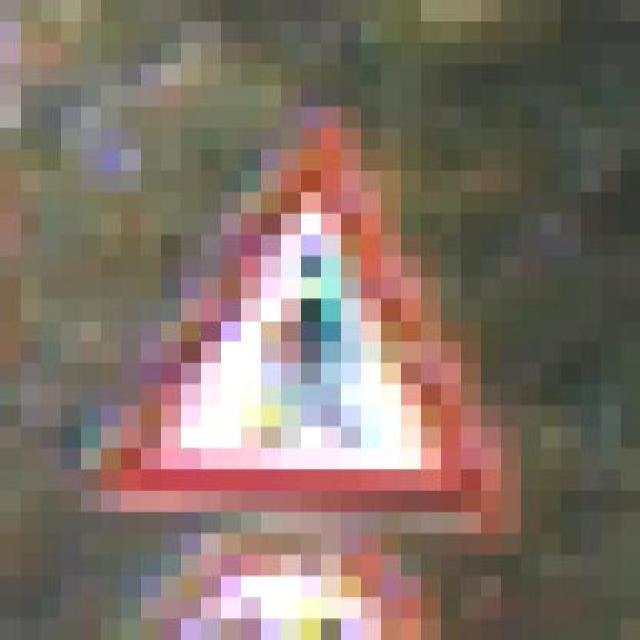Pedestrian Crossing: (60, 86, 540, 554)
